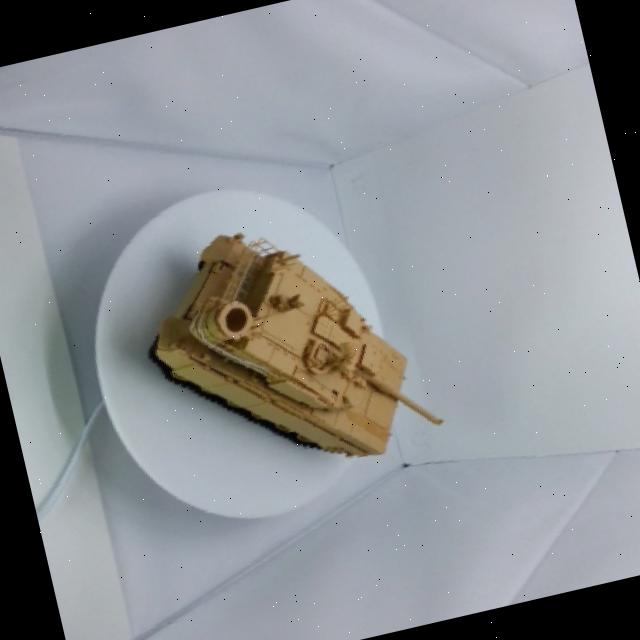korea tank: (112, 176, 478, 534)
